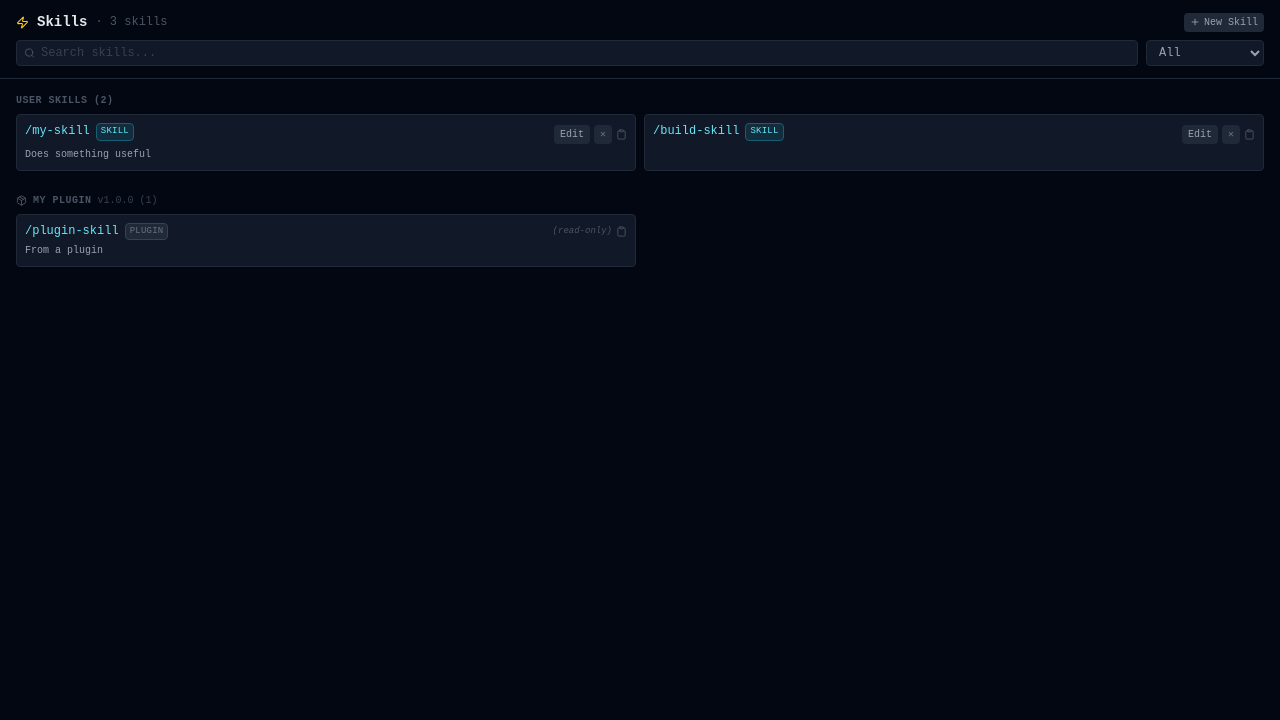
Test: SkillsPanel — new skill form › shows error when saving without a name
The width and height of the screenshot is (1280, 720).
Click the button titled "Create new skill".
click(1224, 22)  # box [1184,12,1264,32]
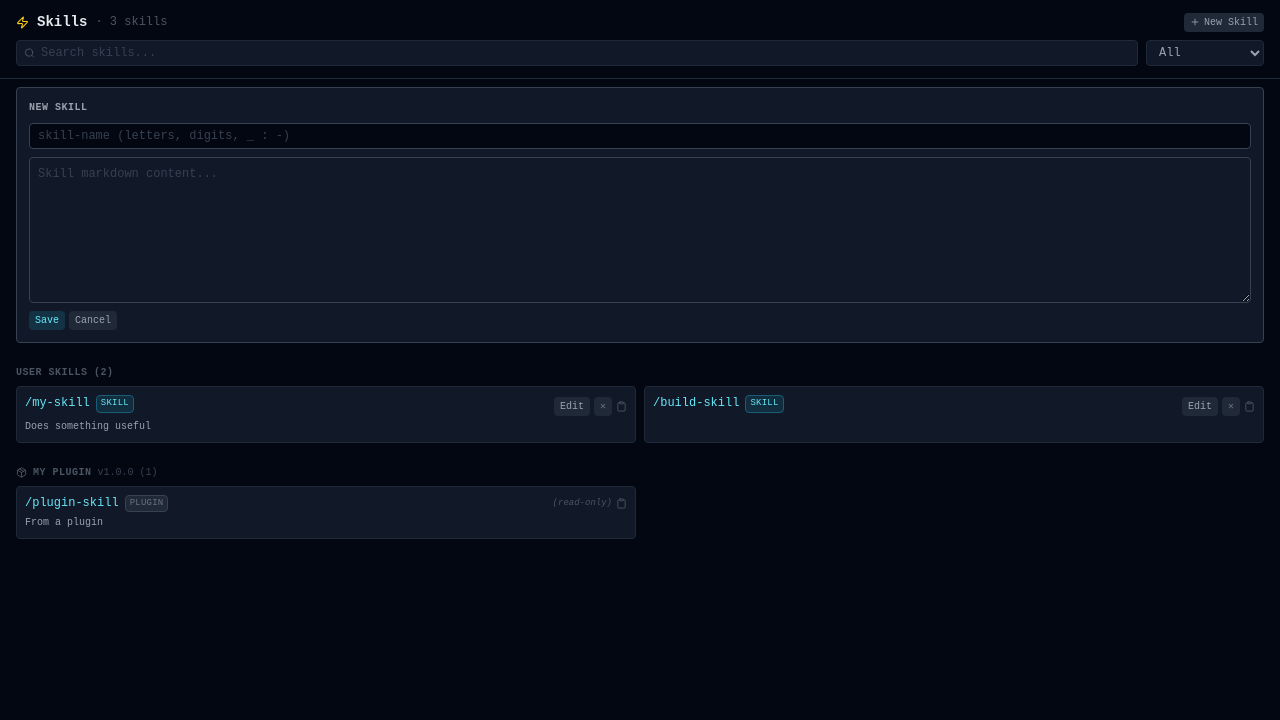
Click the button "Save".
click(47, 320)  # box [29,311,65,330]
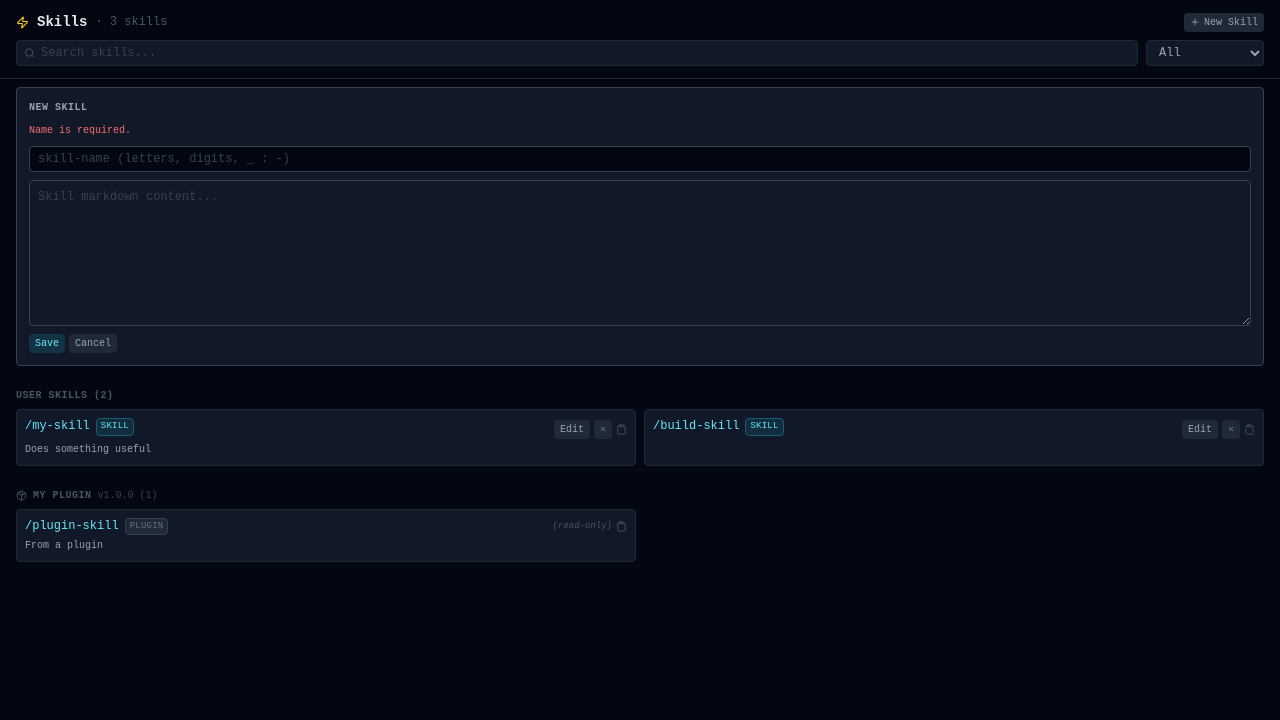
Result: the text "Name is required." is shown at [29,125,131,136]
